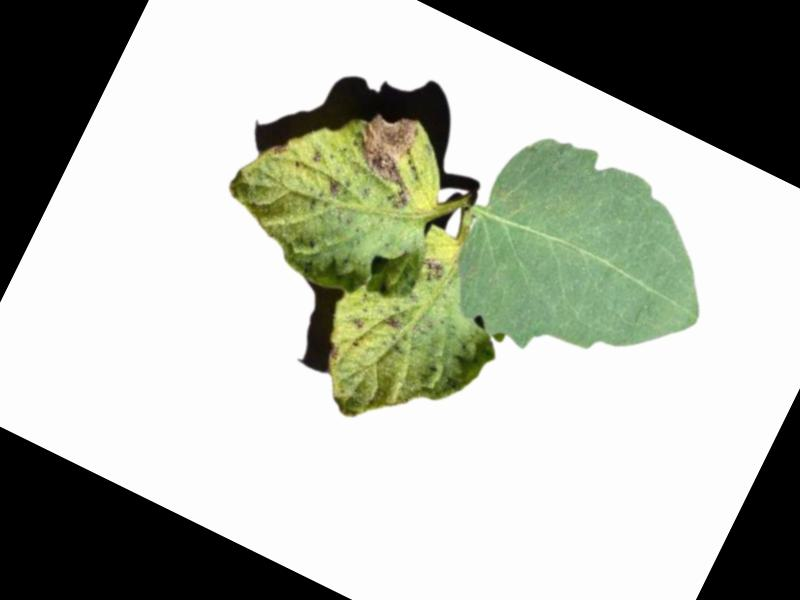Early_blight: (335, 99, 445, 216), (417, 253, 450, 288), (269, 138, 294, 162), (384, 317, 405, 335), (323, 182, 341, 201), (326, 345, 342, 364), (352, 316, 367, 332)
healthy: (424, 113, 744, 412)
